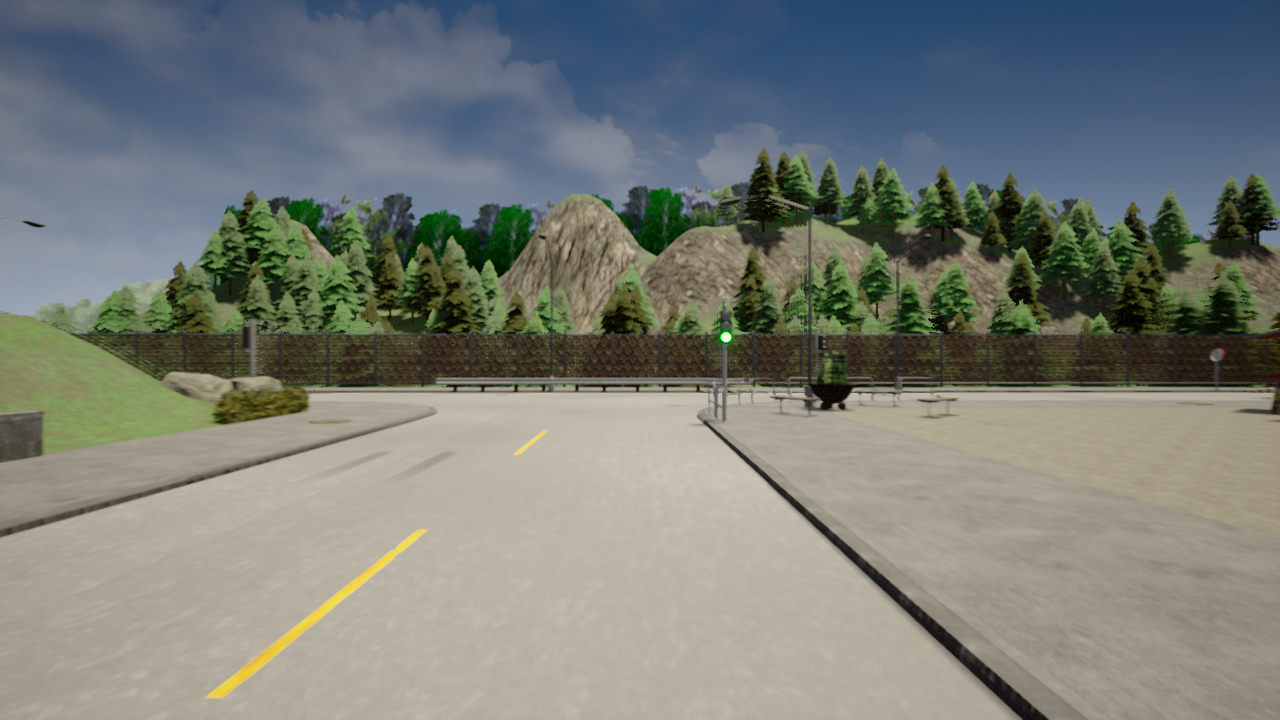green: (719, 309, 732, 344)
